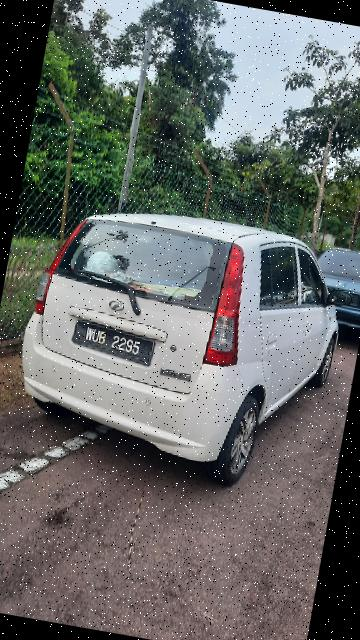License_Plate: (66, 315, 161, 372)
car: (1, 185, 360, 510)
